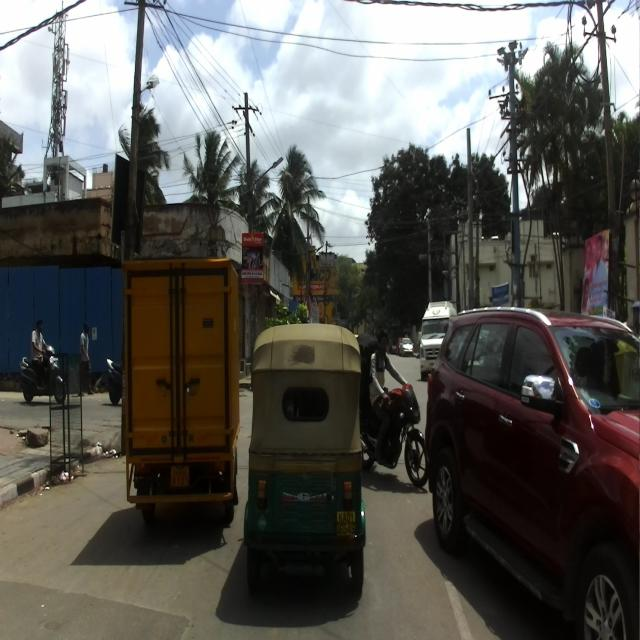autorickshaw: (243, 322, 366, 590)
car: (424, 306, 640, 640)
motorcycle: (359, 383, 428, 488)
truck: (121, 257, 240, 522)
